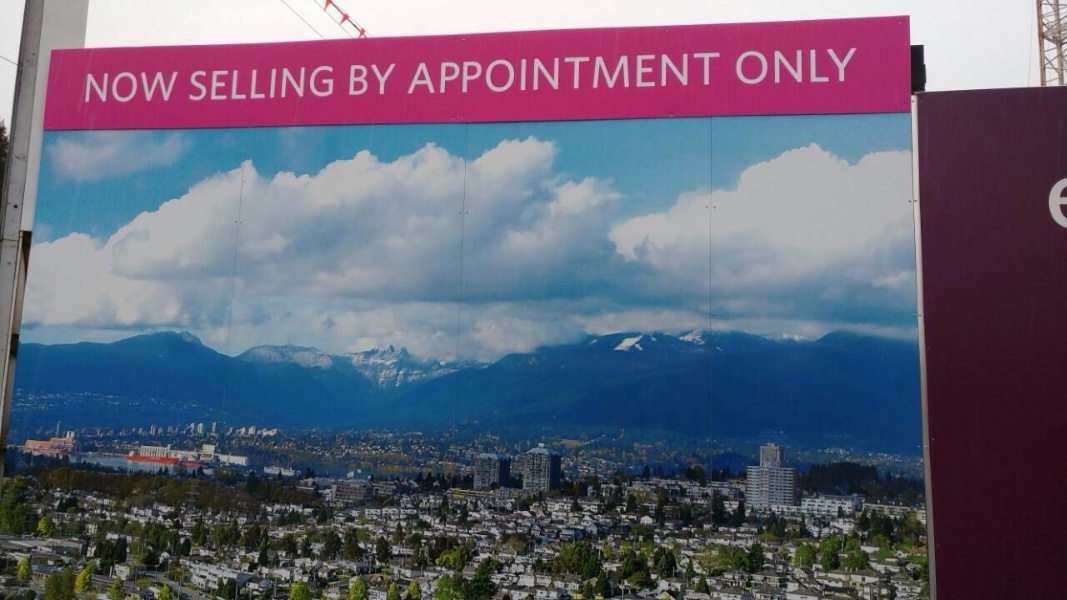text: (433, 51, 448, 96), (449, 51, 464, 96), (465, 51, 480, 96), (481, 51, 496, 96), (497, 51, 512, 96), (513, 51, 528, 96), (529, 51, 544, 96), (545, 51, 560, 96), (561, 51, 576, 96), (577, 51, 592, 96), (593, 51, 608, 96), (609, 51, 624, 96), (625, 51, 640, 96), (641, 51, 656, 96), (657, 51, 672, 96), (673, 51, 688, 96), (689, 51, 704, 96), (705, 51, 720, 96), (737, 45, 752, 86), (753, 45, 768, 86), (769, 45, 784, 86), (785, 45, 800, 86), (801, 45, 816, 86), (817, 45, 832, 86), (833, 45, 848, 86), (193, 66, 208, 101), (209, 66, 224, 101), (225, 66, 240, 101), (241, 66, 256, 101), (257, 66, 272, 101), (273, 66, 288, 101), (289, 66, 304, 101), (305, 66, 320, 101), (353, 61, 368, 96), (369, 61, 384, 96), (421, 51, 432, 96), (321, 66, 335, 101), (97, 71, 112, 103), (113, 71, 128, 103), (129, 71, 144, 103), (145, 71, 160, 103), (161, 71, 176, 103), (385, 61, 398, 96), (849, 45, 859, 86), (86, 71, 96, 103), (734, 45, 736, 86), (350, 61, 352, 96), (177, 71, 179, 103), (721, 51, 722, 96), (191, 66, 192, 101)
